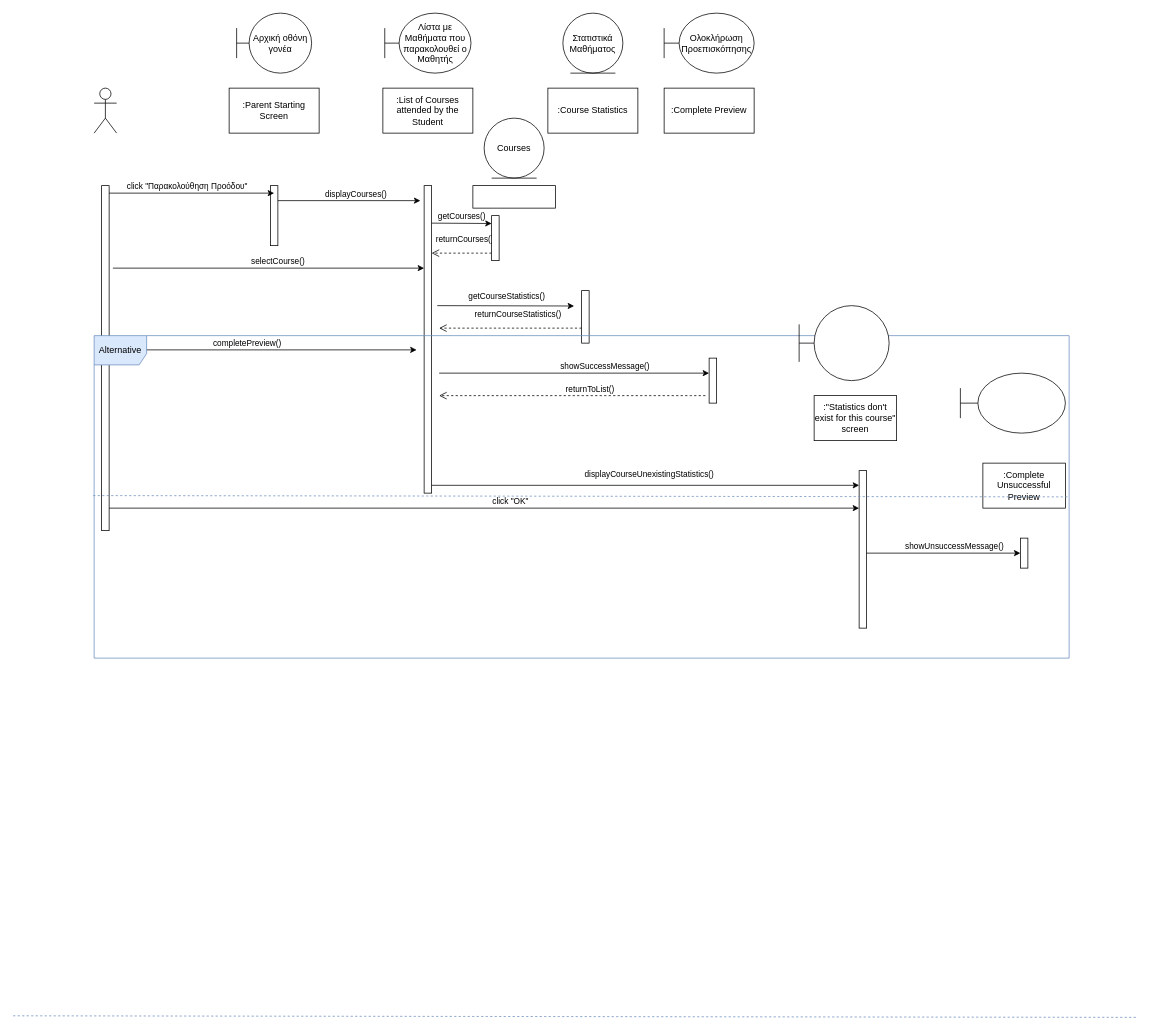
Image size: 1151x1031. Some labels were removed from this diagram. Here are the shapes that lost their labels. From the top down, the centre of each, then its label:
At (105,110): "Γονέας".
At (513,196): ":Courses".
At (843,343): "Μήνυμα Ανυπαρξίας Στατιστικών για το συγκεκριμένο μάθημα".
At (1012,402): "Ολοκλήρωση Ανεπιτυχούς Προεπισκόπησης".
